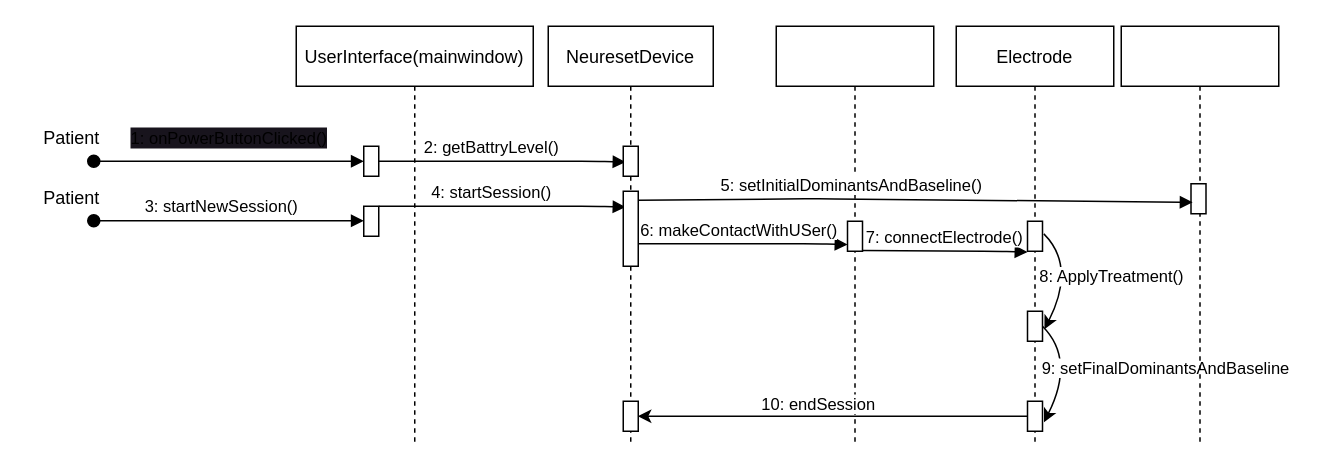
Some shapes in this 1320 by 473 pixel diagram are drawn without their labels. The box of each missing label's shape, as (x1, y1, x2, y2) in pixels:
EGGHeadset: (775, 25, 934, 446)
Session: (1120, 25, 1279, 446)
